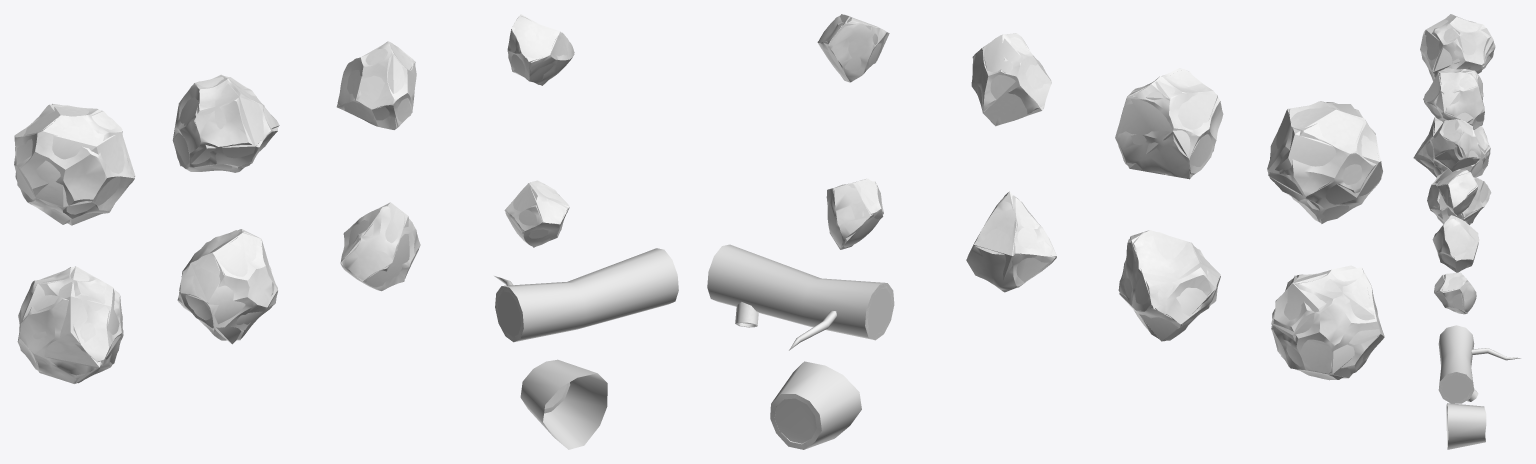
Rendered from nature.dae.
3 renders of one model, left to right at view 1: azimuth 30°, elevation 25°; view 2: azimuth 150°, elevation 25°; view 3: azimuth 270°, elevation 25°, orthographic. The views are drawn at different scales.
Parts seen in each view (by area): view 1: PHYSICS:simple_log, rock_2, rock_4, PHYSICS:simple_log_2, PHYSICS:simple_rock_2, rock_3, PHYSICS:simple_rock_1, PHYSICS:simple_rock_4, rock_1, PHYSICS:simple_rock_3, rock_7, PHYSICS:simple_rock_5 (+6 smaller); view 2: PHYSICS:simple_log, rock_4, PHYSICS:simple_rock_2, rock_2, PHYSICS:simple_log_2, rock_3, rock_1, PHYSICS:simple_rock_4, PHYSICS:simple_rock_3, PHYSICS:simple_rock_1, rock_7, PHYSICS:simple_rock_5 (+8 smaller); view 3: PHYSICS:simple_log, rock_2, PHYSICS:simple_rock_2, rock_3, PHYSICS:simple_log_2, PHYSICS:simple_rock_3, rock_7, rock_5, rock_6, rock_8, PHYSICS:simple_rock_5, rock_1 (+7 smaller).
Part boxes in pixels (x1,y1,x2,y2): PHYSICS:simple_log: [495, 248, 678, 342]; rock_2: [14, 104, 134, 224]; rock_4: [17, 267, 123, 383]; PHYSICS:simple_log_2: [520, 359, 607, 449]; PHYSICS:simple_rock_2: [16, 103, 135, 225]; rock_3: [173, 74, 278, 172]; PHYSICS:simple_rock_1: [178, 229, 277, 344]; PHYSICS:simple_rock_4: [19, 266, 123, 383]; rock_1: [177, 230, 278, 340]; PHYSICS:simple_rock_3: [172, 77, 279, 169]; rock_7: [341, 206, 420, 291]; PHYSICS:simple_rock_5: [336, 41, 415, 128]; PHYSICS:simple_log: [707, 244, 894, 340]; rock_4: [1271, 265, 1384, 380]; PHYSICS:simple_rock_2: [1268, 103, 1381, 223]; rock_2: [1267, 101, 1382, 222]; PHYSICS:simple_log_2: [772, 361, 861, 449]; rock_3: [1115, 68, 1223, 177]; rock_1: [1118, 232, 1220, 341]; PHYSICS:simple_rock_4: [1271, 267, 1382, 378]; PHYSICS:simple_rock_3: [1115, 69, 1217, 179]; PHYSICS:simple_rock_1: [1119, 230, 1220, 341]; rock_7: [967, 195, 1056, 292]; PHYSICS:simple_rock_5: [972, 35, 1051, 126]; PHYSICS:simple_log: [1438, 325, 1474, 403]; rock_2: [1420, 14, 1495, 81]; PHYSICS:simple_rock_2: [1424, 15, 1493, 76]; rock_3: [1424, 68, 1484, 129]; PHYSICS:simple_log_2: [1446, 403, 1486, 449]; PHYSICS:simple_rock_3: [1423, 70, 1484, 125]; rock_7: [1433, 215, 1479, 272]; rock_5: [1429, 119, 1480, 171]; rock_6: [1437, 169, 1477, 214]; rock_8: [1434, 272, 1476, 314]; PHYSICS:simple_rock_5: [1433, 119, 1480, 169]; rock_1: [1427, 168, 1490, 224].
Size of the model in its own units: 12.91 by 3.04 by 8.6.
